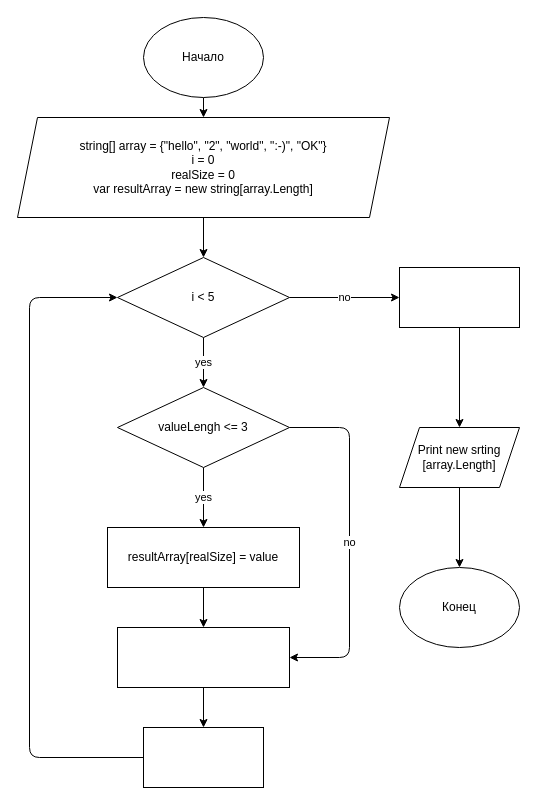
This 537x805 diagram has some shape labels left out. Here are the shapes that lost their labels. From the top down, the centre of each, then its label:
point 459,297: return resultArray
point 203,657: realSize = realSize + 1
point 203,757: i++
